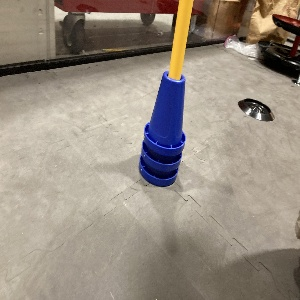Blue_3: (139, 71, 185, 186)
